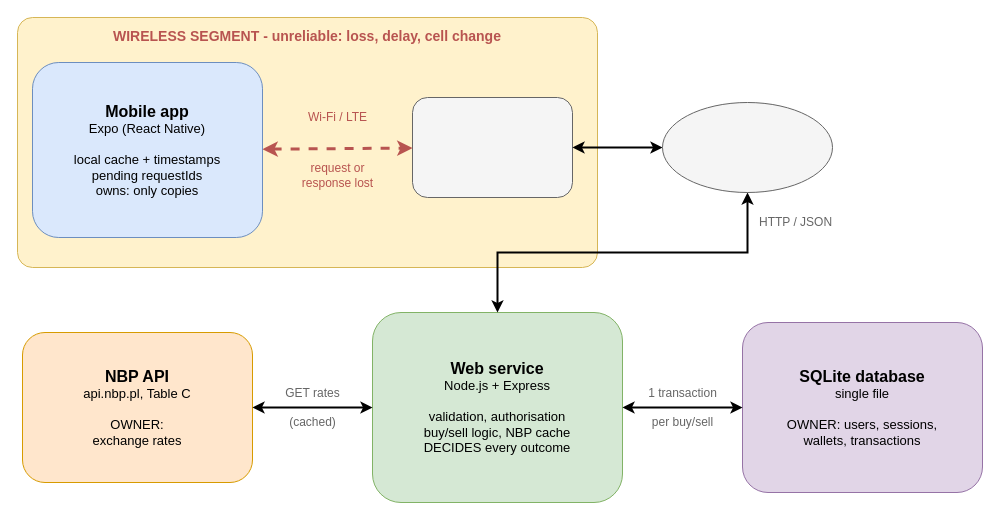
Image size: 1000x520. Some labels were removed from this diagram. Here are the shapes that lost their labels. From the top down, the centre of each, then its label:
point 492,147: Base station Wi-Fi access point or LTE cell
point 747,147: Internet (fixed network)
